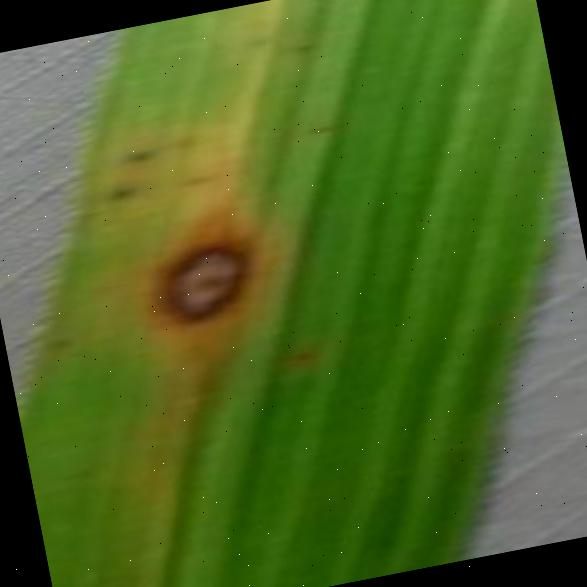Brown_Spot: (117, 201, 282, 362), (273, 336, 326, 378), (291, 108, 343, 148), (34, 322, 80, 361), (230, 18, 278, 55), (53, 456, 98, 489), (111, 136, 154, 168), (281, 28, 321, 62), (98, 174, 136, 207), (157, 128, 196, 160), (174, 164, 212, 191)
